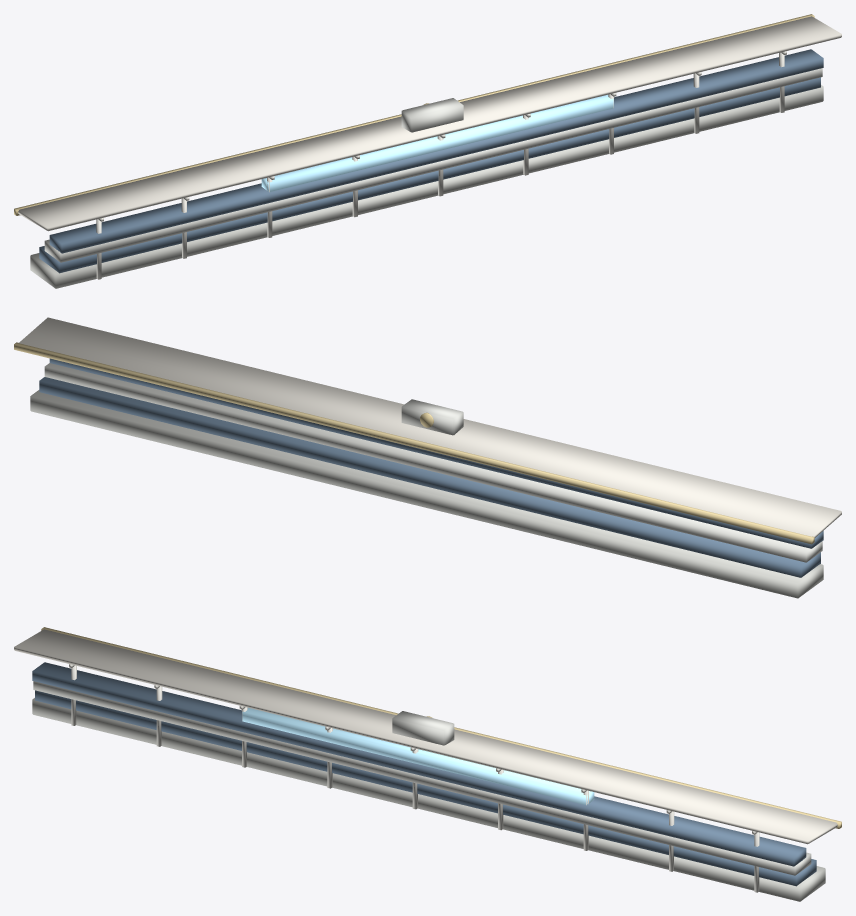
File: grandstand.glb
The picture shows the model from 3 angles, top to bottom: view 1: azimuth 30°, elevation 25°; view 2: azimuth 150°, elevation 25°; view 3: azimuth 330°, elevation 25°; orthographic projection.
Parts seen in each view (by area): view 1: Grandstand; view 2: Grandstand; view 3: Grandstand.
Boxes of the visible parts, x1=… form: Grandstand: x1=14, y1=14, x2=841, y2=288; Grandstand: x1=14, y1=317, x2=841, y2=598; Grandstand: x1=14, y1=627, x2=841, y2=901.
Bounding box in the file's own units: 24.3 × 2.41 × 1.7.
